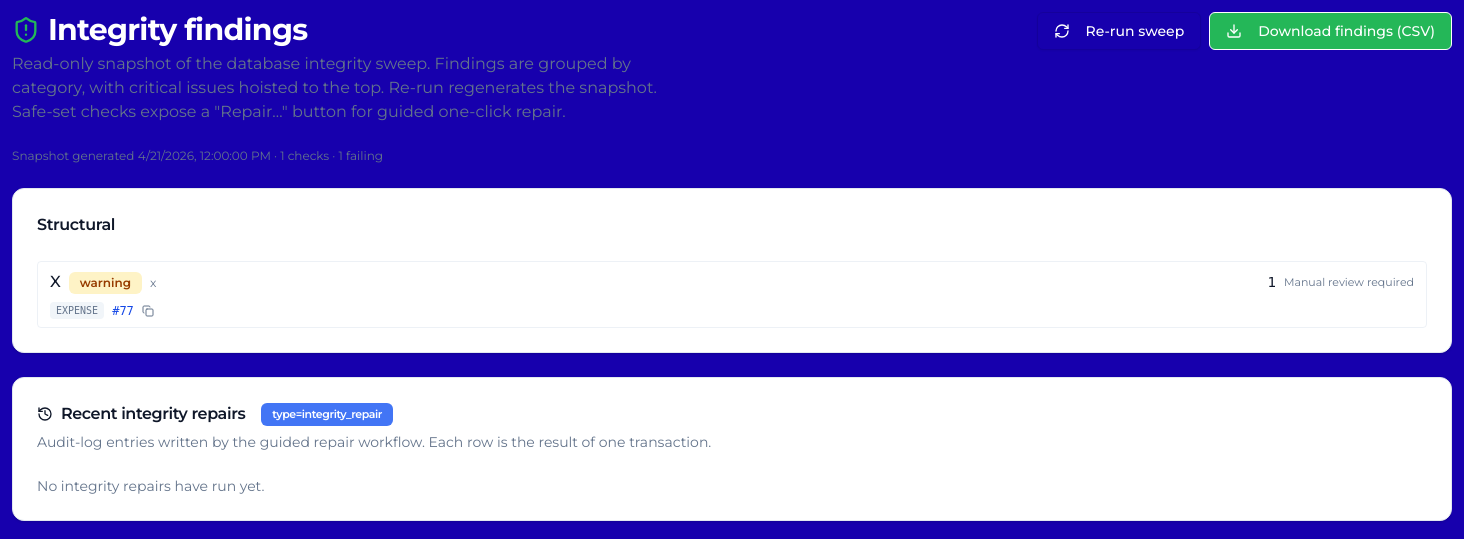
Test: AdminIntegrityPage › shows inline feedback when clipboard copy fails
The image size is (1464, 539).
Click the button with test id "sample-copy-expense-77" at x=148, y=311, box [142,305,154,317]
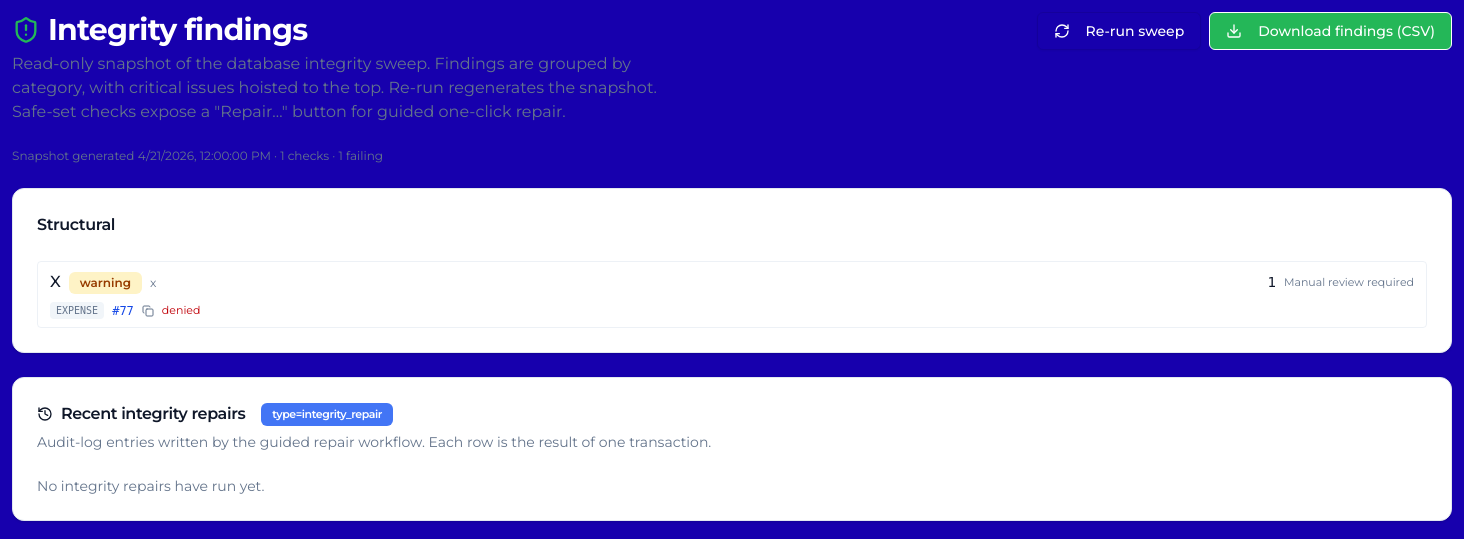
Result: the message with test id "sample-copy-error-expense-77" reads "denied" at [162,303,200,317]
